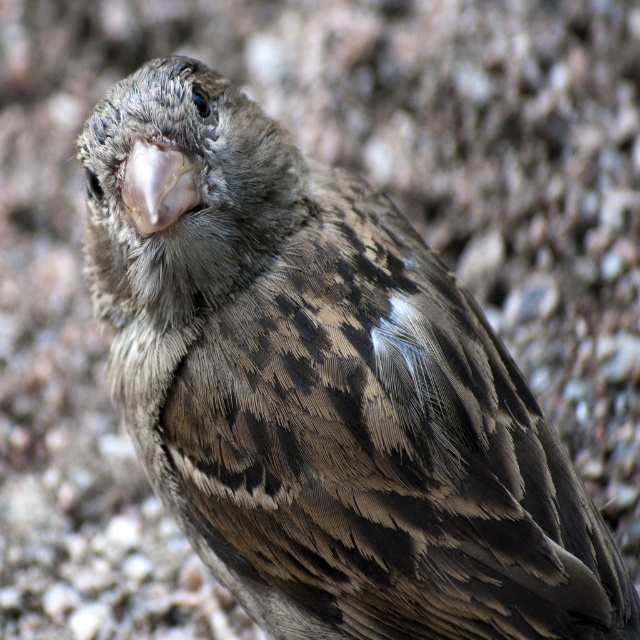Sparrow: (66, 50, 640, 639)
